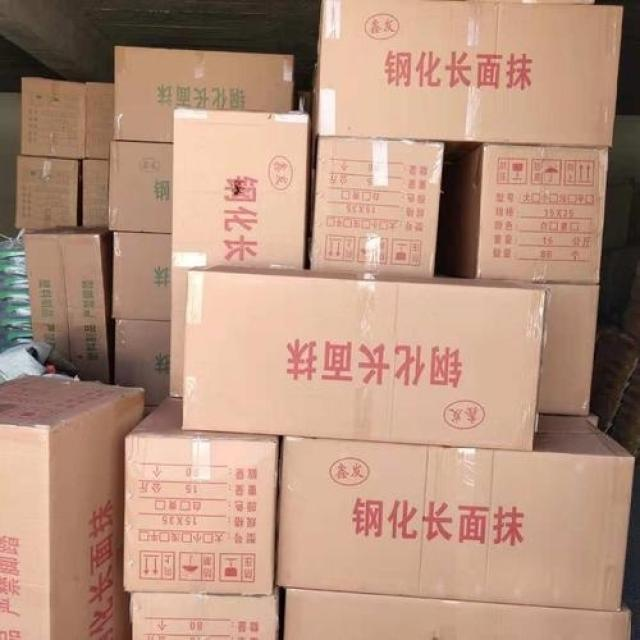box: (273, 412, 636, 612), (179, 264, 548, 451), (167, 109, 309, 399), (0, 371, 145, 637), (122, 397, 283, 593), (439, 146, 609, 284), (306, 136, 445, 277), (282, 587, 631, 637), (109, 47, 292, 141), (28, 221, 113, 383), (530, 280, 600, 414), (128, 589, 279, 637), (109, 139, 172, 235), (110, 228, 170, 320), (108, 319, 169, 408), (21, 78, 85, 159), (15, 153, 80, 231), (82, 81, 113, 159), (79, 158, 109, 226), (603, 185, 632, 250)
